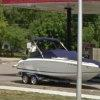Boat: (10, 35, 99, 90)
